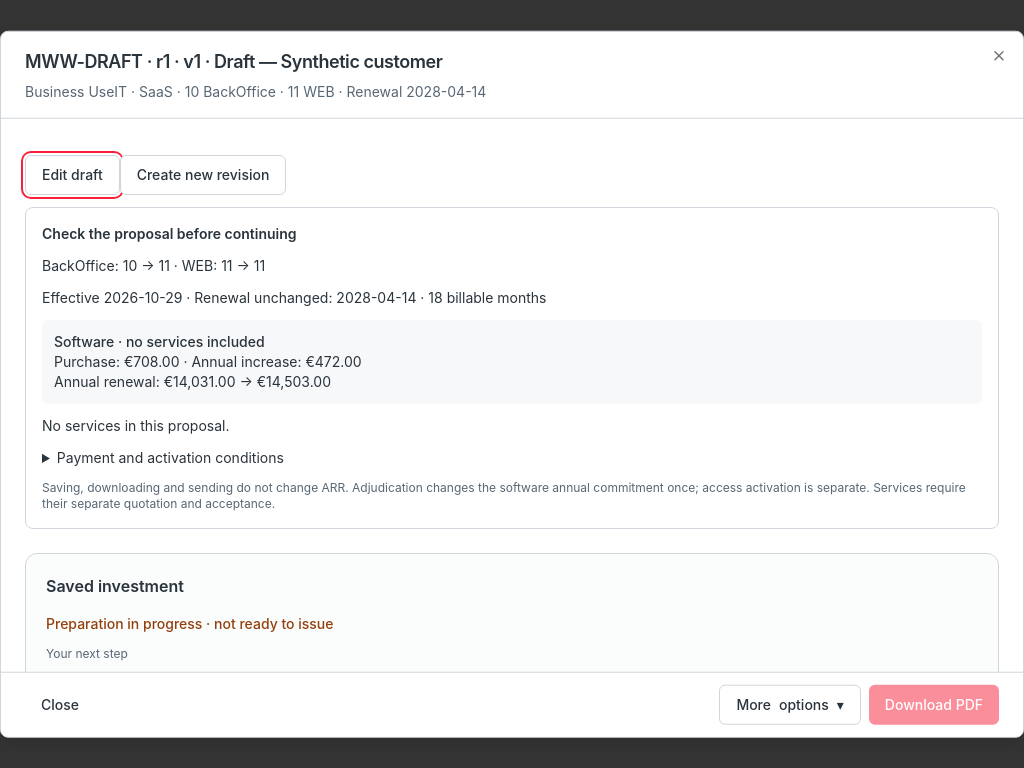
Scenario: Addition proposal editor › keeps baseline review visible and blocks export until the recorded annual total is confirmed
This screenshot has width=1024, height=768.
Step 1. Click the button "Edit draft" → click(72, 175), box [25,155,120,195]
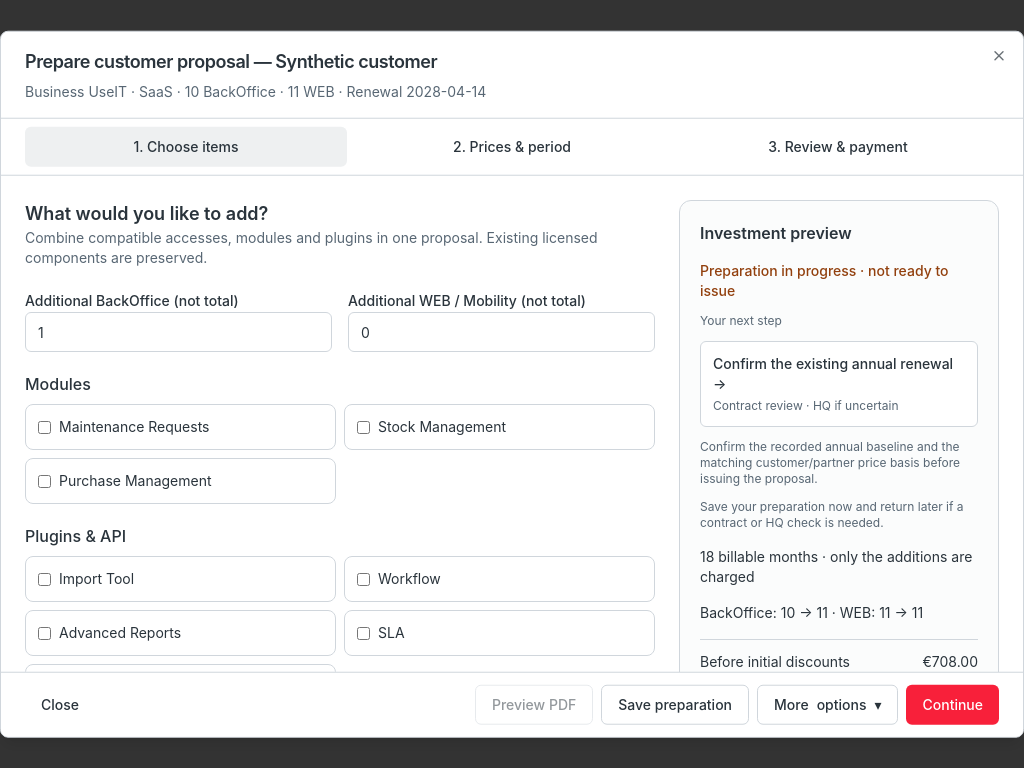
Expected: the button "Preview PDF" is disabled, [475,684,593,724]
Expected: the button "Confirm the existing annual renewal" is shown
Step 2. Click the button "Confirm the existing annual renewal" → click(833, 363), box [700,341,978,427]
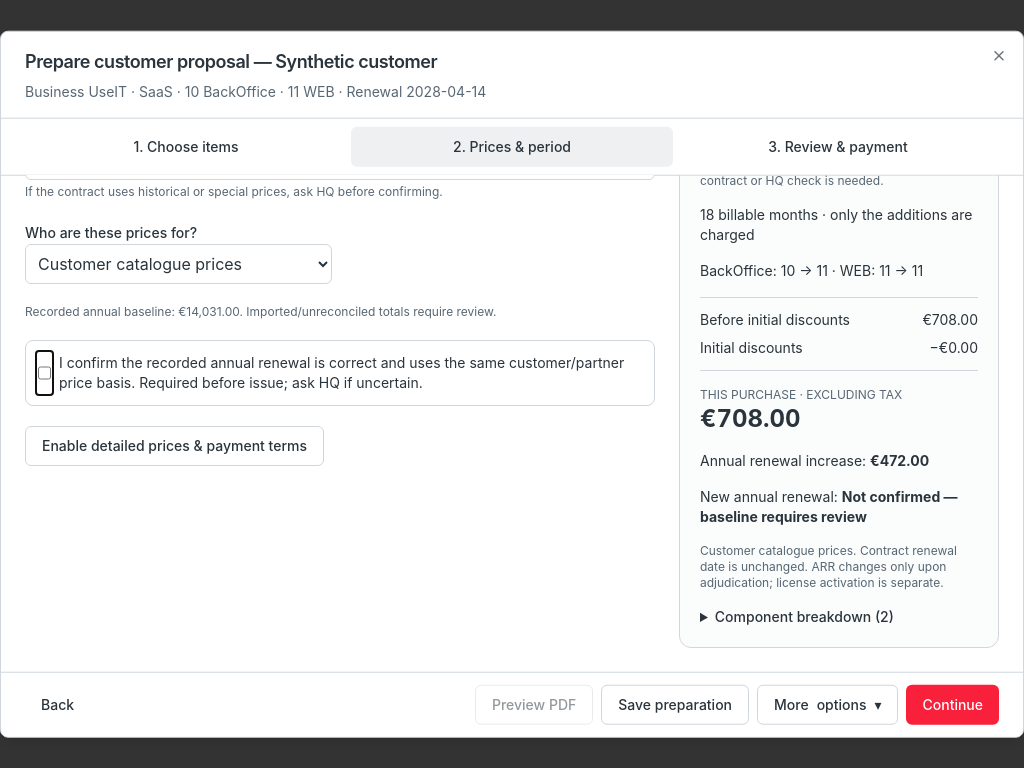
Step 3. Click the checkbox labelled "I confirm the recorded annual renewal" → click(44, 373), box [38,353,51,393]
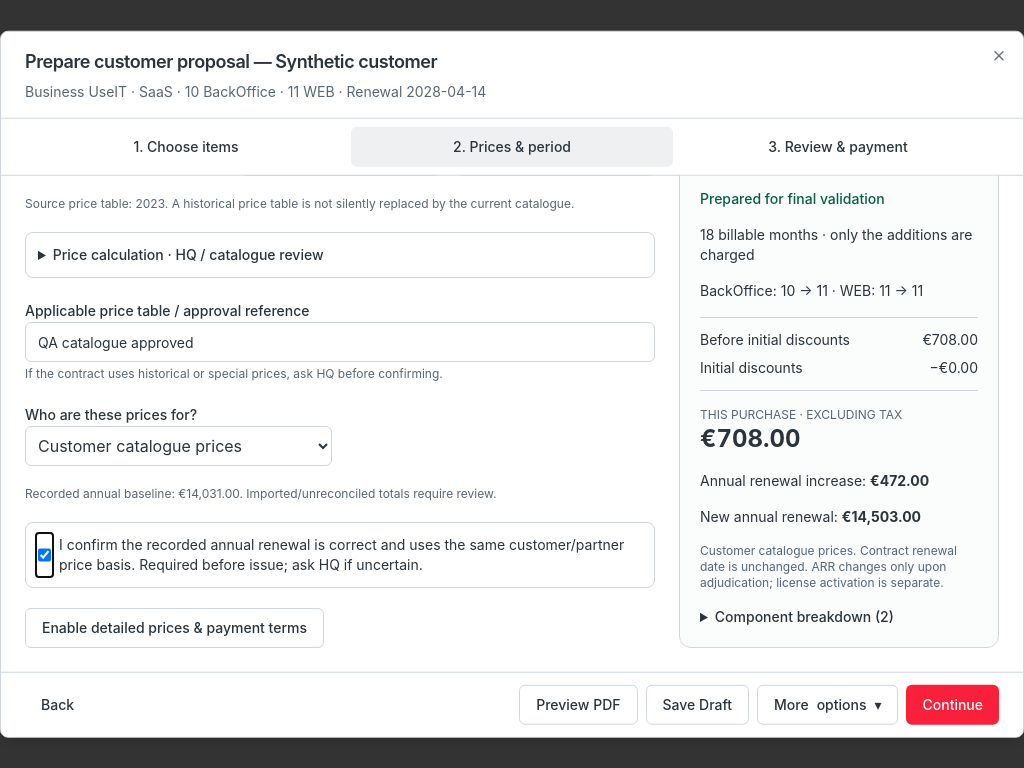
Expected: the button "Preview PDF" is enabled, [519,684,638,724]
